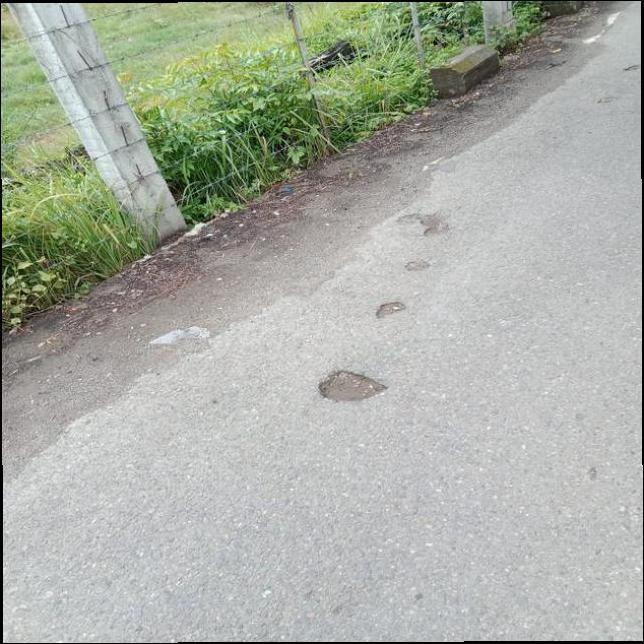Lubang: (322, 366, 382, 403)
